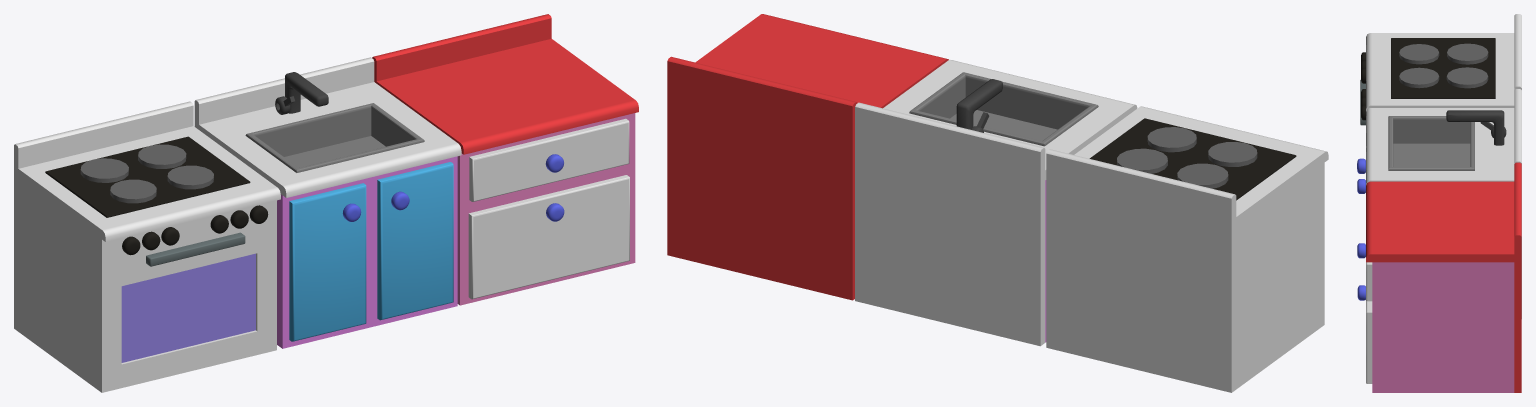
Rendered from kitchen.fbx.
3 views of the same model, side by side, from view 1: azimuth 30°, elevation 25°; view 2: azimuth 150°, elevation 25°; view 3: azimuth 270°, elevation 25° (orthographic). The views are drawn at different scales.
Visible parts, largest first — view 1: stove, kitchen_sink, kitchen_cabinet; view 2: stove, kitchen_sink, kitchen_cabinet; view 3: kitchen_cabinet, stove, kitchen_sink.
Boxes of the visible parts, box(x1,y1,x2,y2) form: stove: box(14, 101, 280, 392); kitchen_sink: box(194, 57, 461, 348); kitchen_cabinet: box(372, 14, 638, 305); stove: box(1046, 106, 1328, 392); kitchen_sink: box(855, 59, 1137, 346); kitchen_cabinet: box(667, 14, 948, 300); kitchen_cabinet: box(1357, 162, 1521, 392); stove: box(1360, 14, 1521, 125); kitchen_sink: box(1357, 89, 1521, 318).
Bounding box in the file's own units: 407 × 146 × 128.
